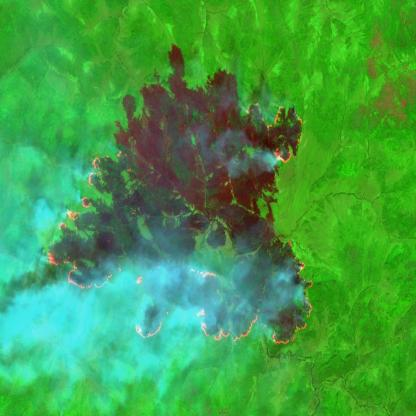fire: (46, 100, 315, 350)
